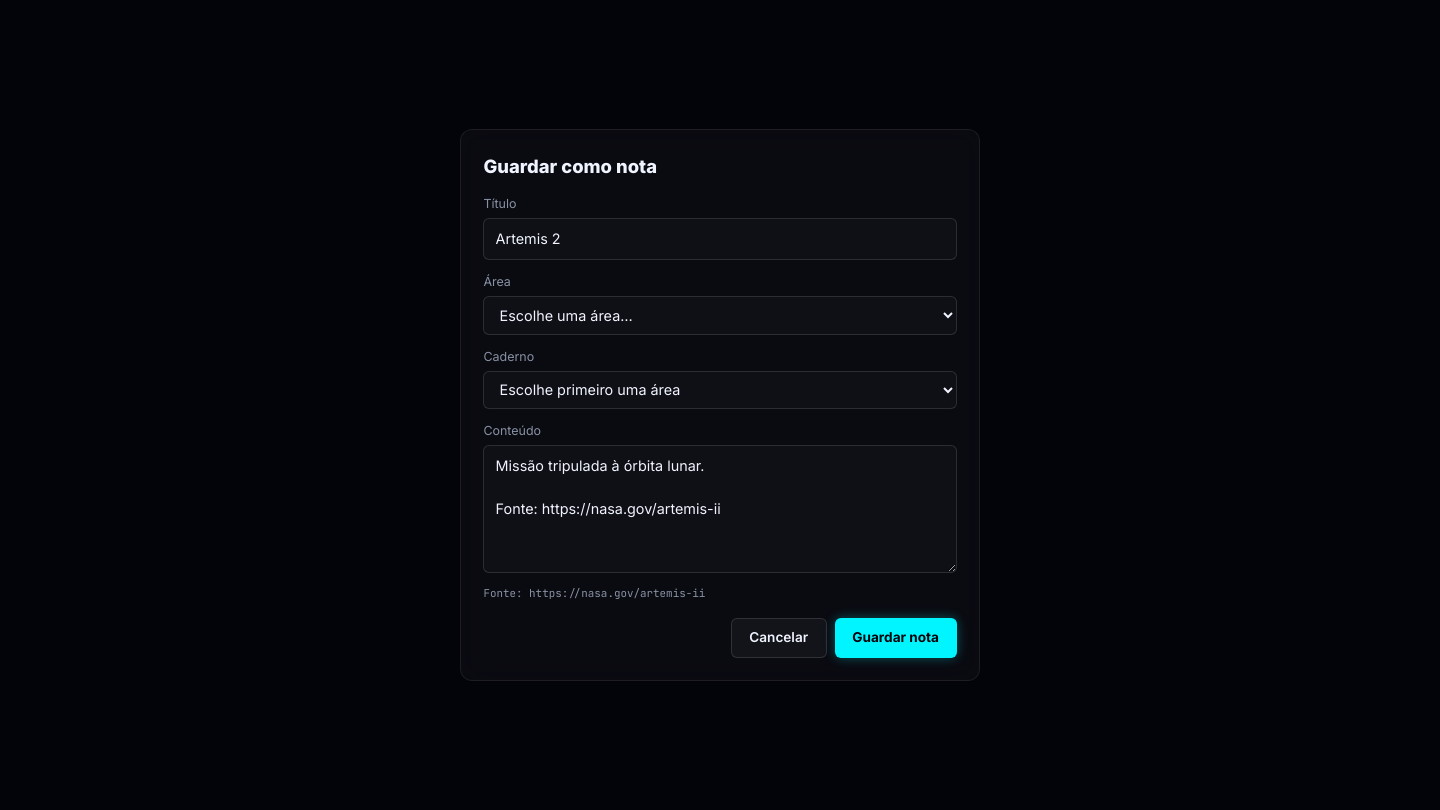
it: WebSearchSaveModal (Story 5.11 / AC5) › selector caderno desactivado até escolher área; cascata filtra cadernos da área
The width and height of the screenshot is (1440, 810).
Expected: the dropdown named "Caderno de destino" is disabled, [483, 371, 957, 409]
Select "Espaço" in the dropdown named "Área de destino" at (720, 315), box [483, 296, 957, 335]
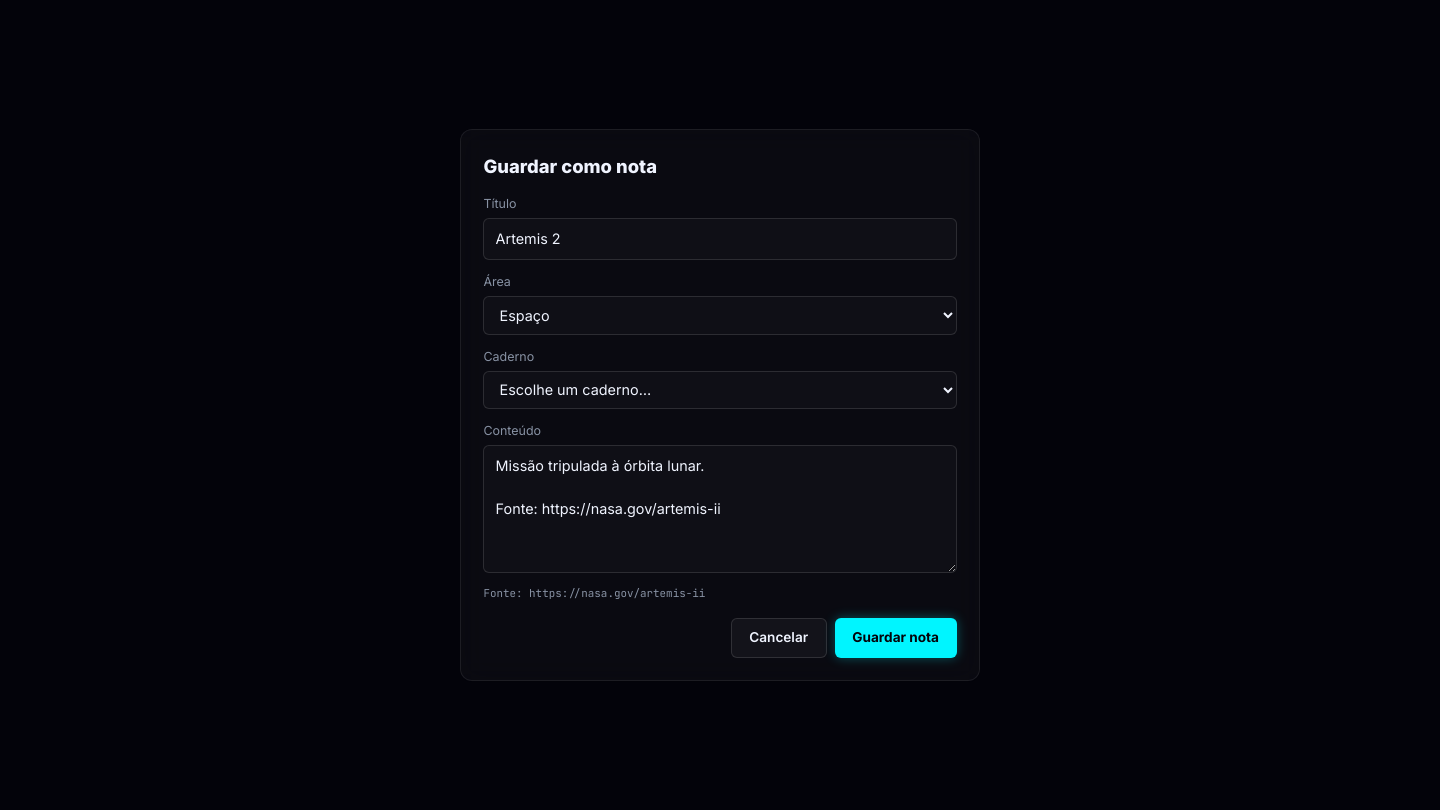
Expected: the dropdown named "Caderno de destino" is enabled, [483, 371, 957, 409]
